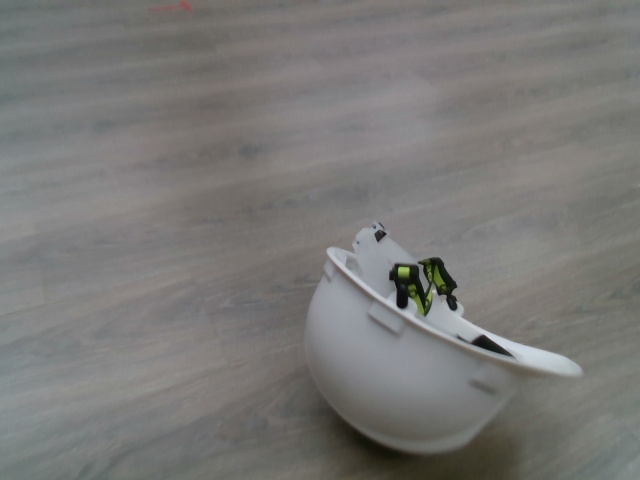helmet: (295, 221, 589, 460)
